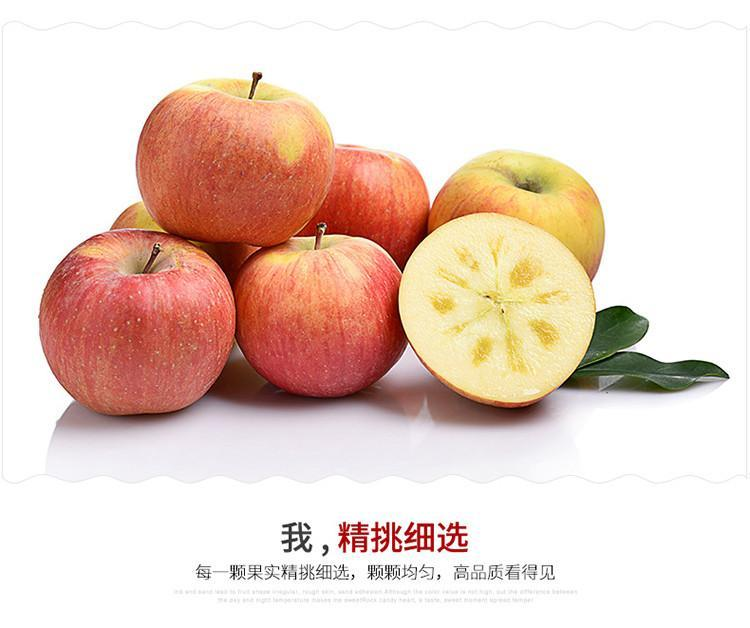apple: (399, 213, 594, 409), (37, 227, 234, 417), (131, 68, 334, 251), (234, 233, 409, 402), (425, 151, 606, 277), (297, 142, 430, 264)
